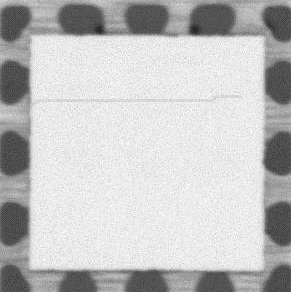DIE_CRACK: (31, 95, 248, 104)
